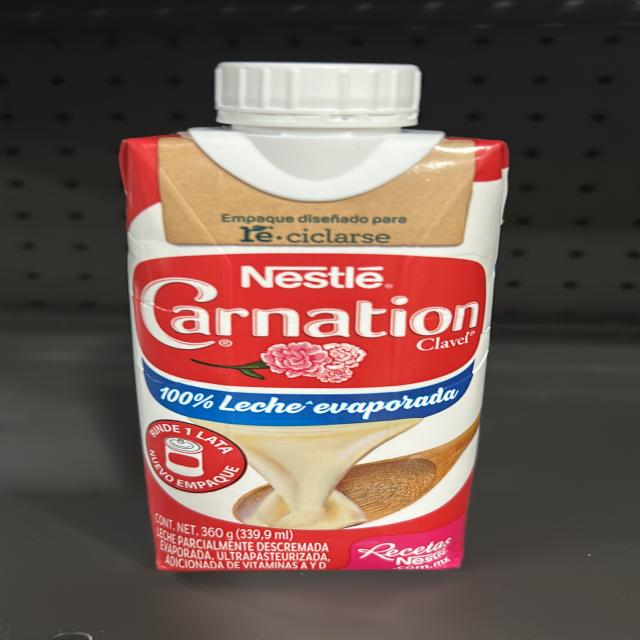nestleCarnation: (126, 59, 488, 572)
